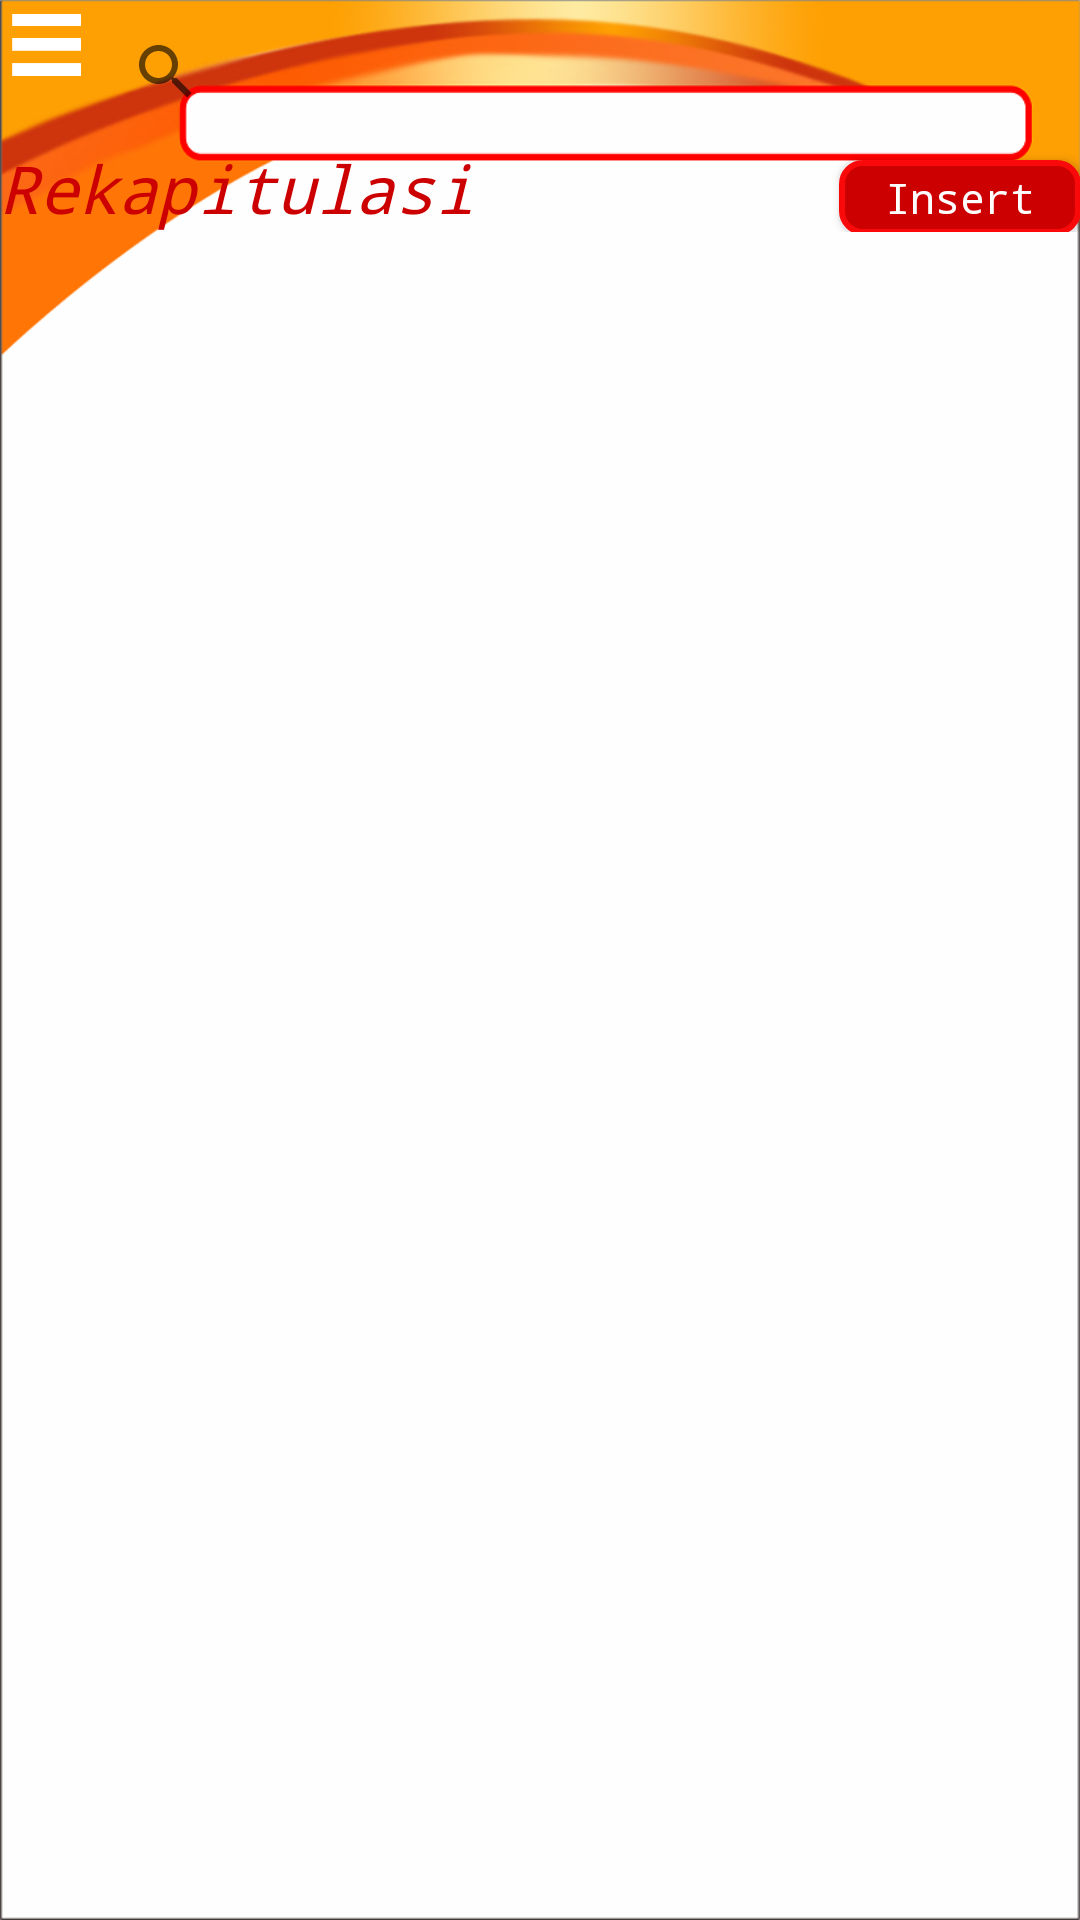

Where icons sit on this 1080×1920 app screen, as region(x1, y1, x2, y2):
menu: region(12, 14, 81, 76)
